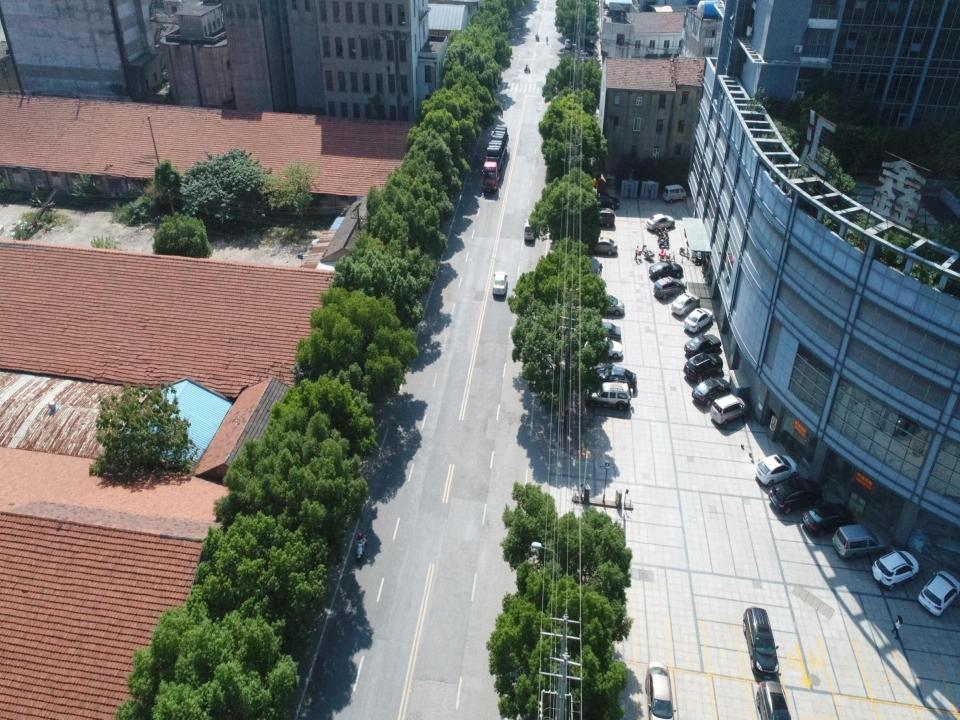car: (741, 604, 782, 679), (870, 546, 920, 592), (916, 566, 960, 616), (801, 502, 858, 537), (769, 480, 825, 514), (644, 660, 676, 719), (753, 682, 794, 720), (754, 454, 799, 488), (586, 378, 631, 411), (684, 351, 723, 383), (593, 365, 637, 393), (692, 377, 731, 405), (683, 333, 721, 359), (583, 334, 623, 358), (588, 293, 625, 316), (683, 307, 714, 334), (582, 321, 622, 341), (653, 275, 686, 299), (671, 292, 701, 316), (648, 261, 684, 281), (586, 235, 618, 256), (645, 213, 675, 231), (590, 192, 620, 210), (492, 271, 509, 296), (564, 38, 572, 49)
truck: (480, 124, 509, 193)
van: (832, 522, 890, 562), (709, 392, 749, 425), (590, 207, 615, 228), (662, 184, 687, 204), (523, 216, 536, 240), (577, 51, 593, 62)
